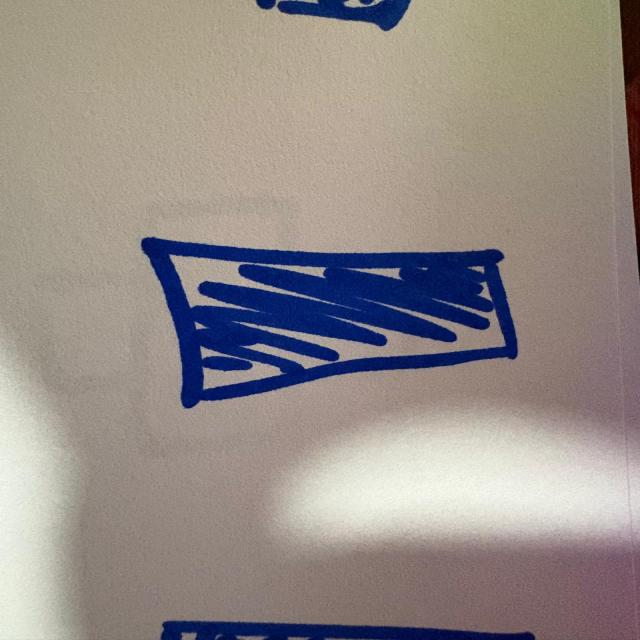Rectangle: (115, 224, 529, 412)
